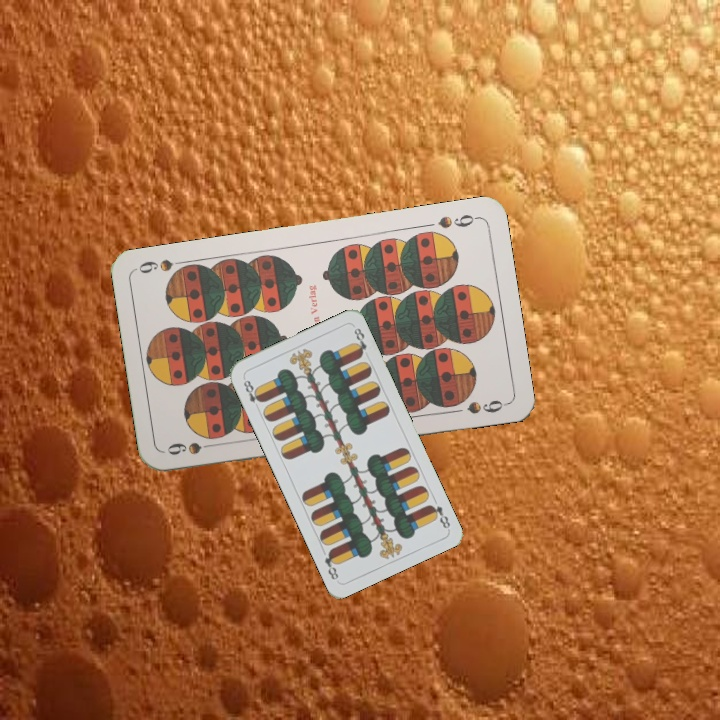E8: (239, 374, 265, 412), (425, 501, 453, 531)
S9: (162, 438, 222, 458), (434, 210, 481, 231)
